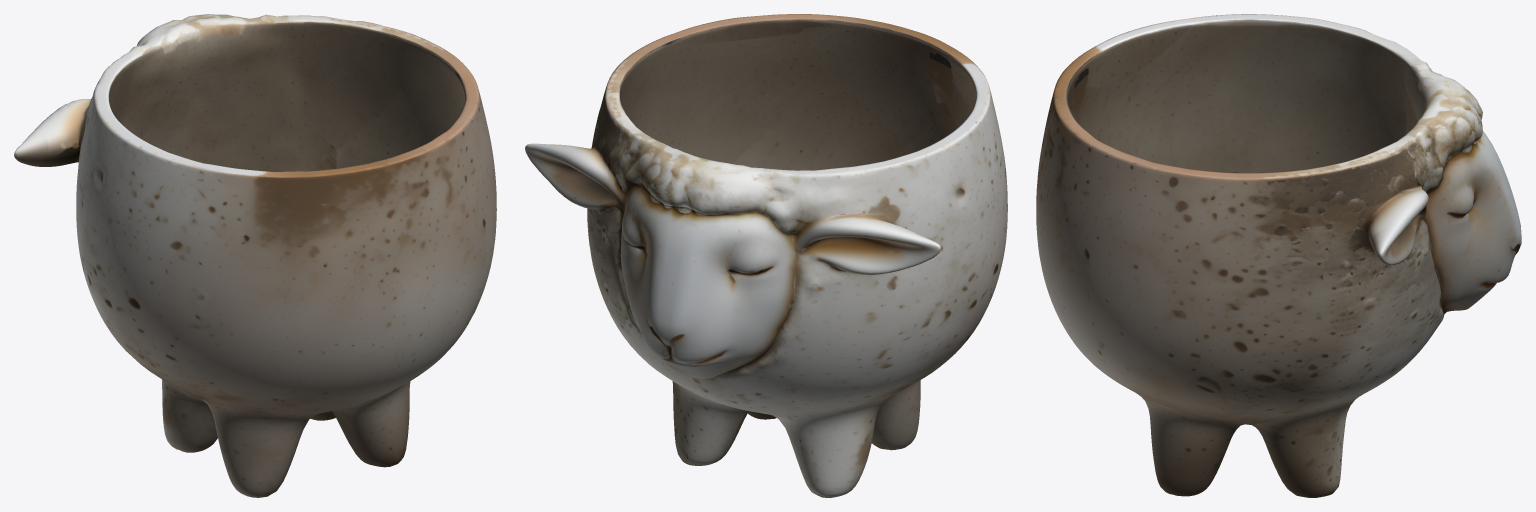
Rendered from hitsuji.glb.
The picture shows the model from 3 angles, left to right: view 1: azimuth 30°, elevation 25°; view 2: azimuth 150°, elevation 25°; view 3: azimuth 270°, elevation 25°; orthographic projection.
Parts seen in each view (by area): view 1: model; view 2: model; view 3: model.
Boxes of the visible parts, x1,y1,x2,y2 form: model: (14, 14, 496, 497); model: (525, 14, 1007, 497); model: (1036, 14, 1521, 497).
Bounding box in the file's own units: 15.73 × 13.08 × 15.67.
1 material, 1 textured.
